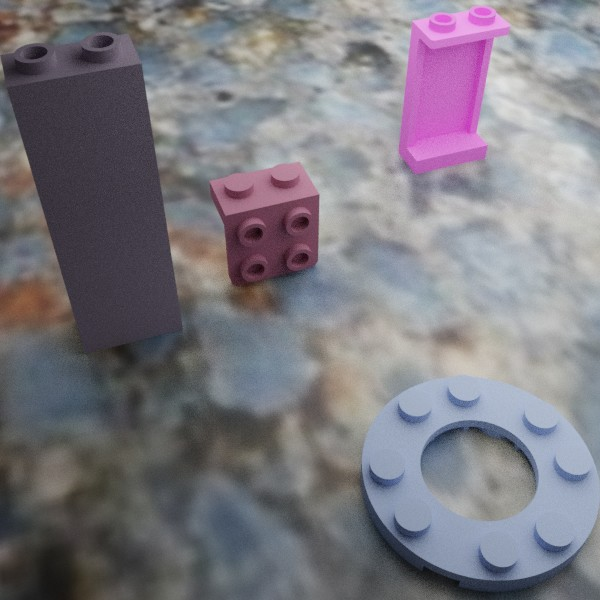lego: (0, 32, 182, 354), (360, 374, 600, 591), (398, 5, 510, 174), (209, 161, 319, 285)
